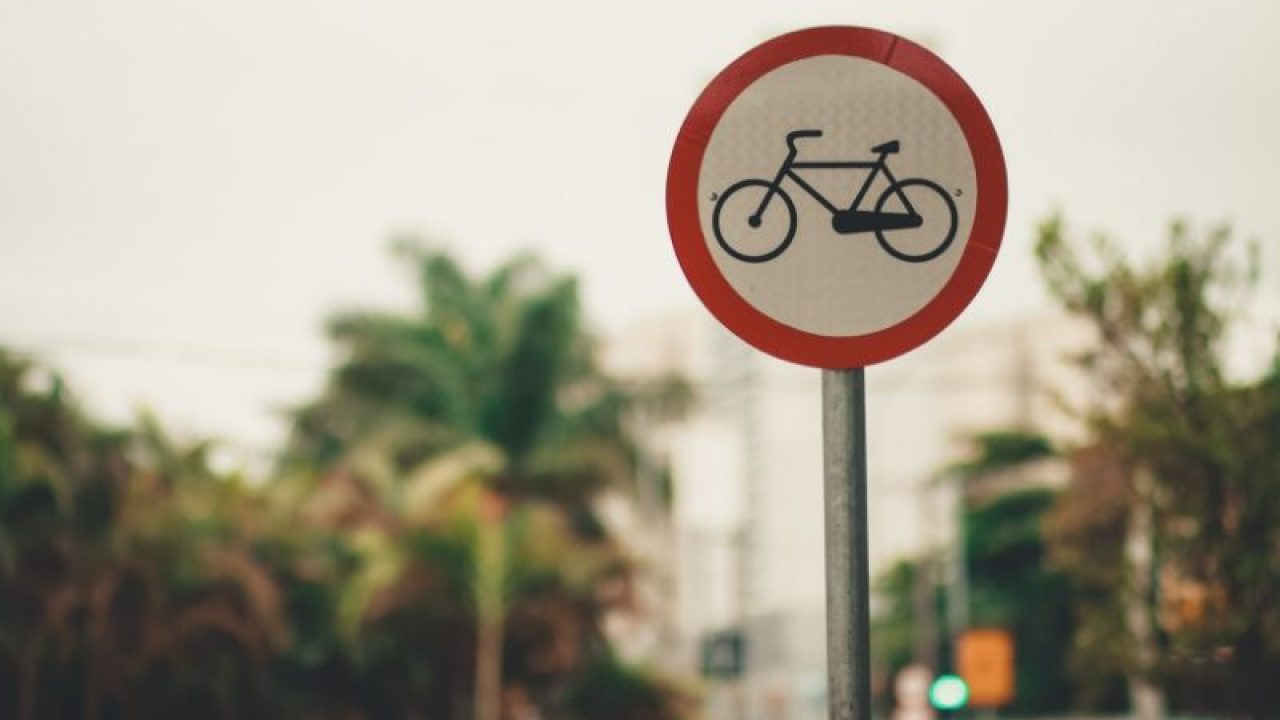Cartel: (656, 22, 1013, 373)
Poste: (813, 362, 890, 720)
